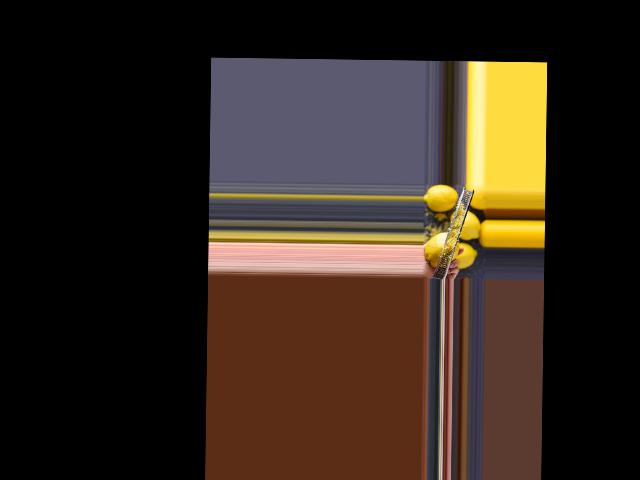lemon: (424, 185, 457, 217)
